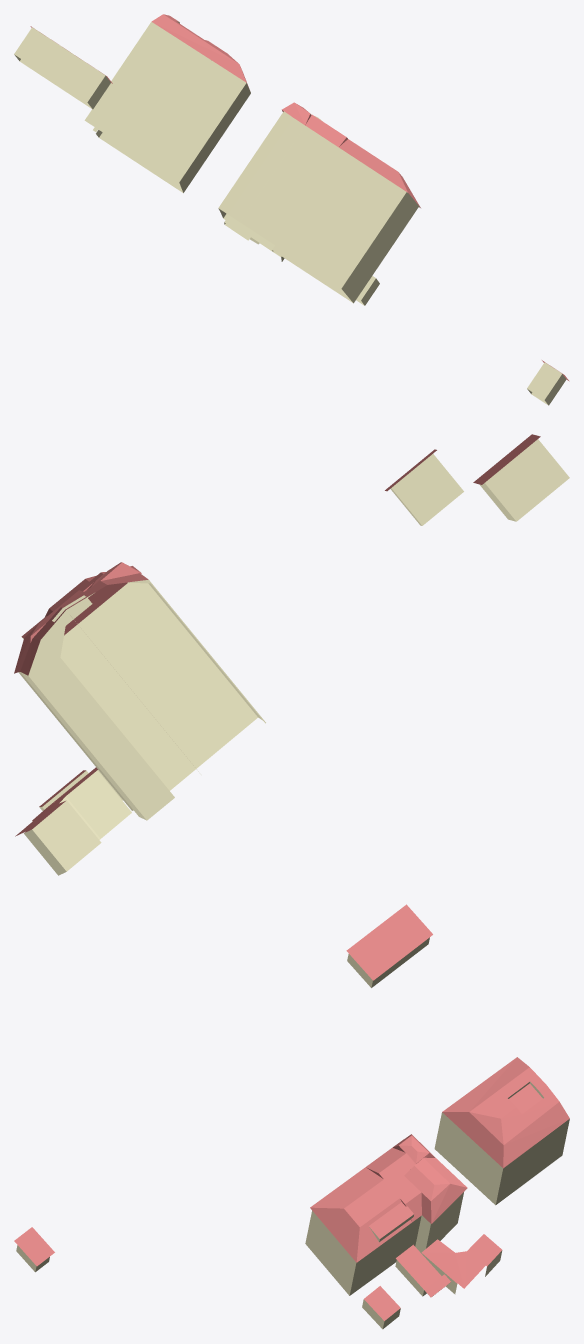
Rendered from tile_023.glb.
The picture shows the model from 3 angles, top to bottom: view 1: azimuth 30°, elevation 25°; view 2: azimuth 150°, elevation 25°; view 3: azimuth 270°, elevation 25°; orthographic projection. The views are drawn at different scales.
Parts seen in each view (by area): view 1: Batched_Building_ID_3FA084E5-DED4-48A3-98A5-DDC738BF3409, Batched_Building_ID_B1112F1A-AEA5-40C7-A9B1-912733CC2119; view 2: Batched_Building_ID_3FA084E5-DED4-48A3-98A5-DDC738BF3409, Batched_Building_ID_B1112F1A-AEA5-40C7-A9B1-912733CC2119; view 3: Batched_Building_ID_B1112F1A-AEA5-40C7-A9B1-912733CC2119, Batched_Building_ID_3FA084E5-DED4-48A3-98A5-DDC738BF3409.
Boxes of the visible parts, x1,y1,x2,y2 form: Batched_Building_ID_3FA084E5-DED4-48A3-98A5-DDC738BF3409: (14,21,566,405); Batched_Building_ID_B1112F1A-AEA5-40C7-A9B1-912733CC2119: (30,14,569,381); Batched_Building_ID_3FA084E5-DED4-48A3-98A5-DDC738BF3409: (18,439,569,875); Batched_Building_ID_B1112F1A-AEA5-40C7-A9B1-912733CC2119: (14,434,540,836); Batched_Building_ID_B1112F1A-AEA5-40C7-A9B1-912733CC2119: (14,904,569,1320); Batched_Building_ID_3FA084E5-DED4-48A3-98A5-DDC738BF3409: (16,937,569,1329).
Size of the model in its own units: 93.04 by 81.76 by 140.
